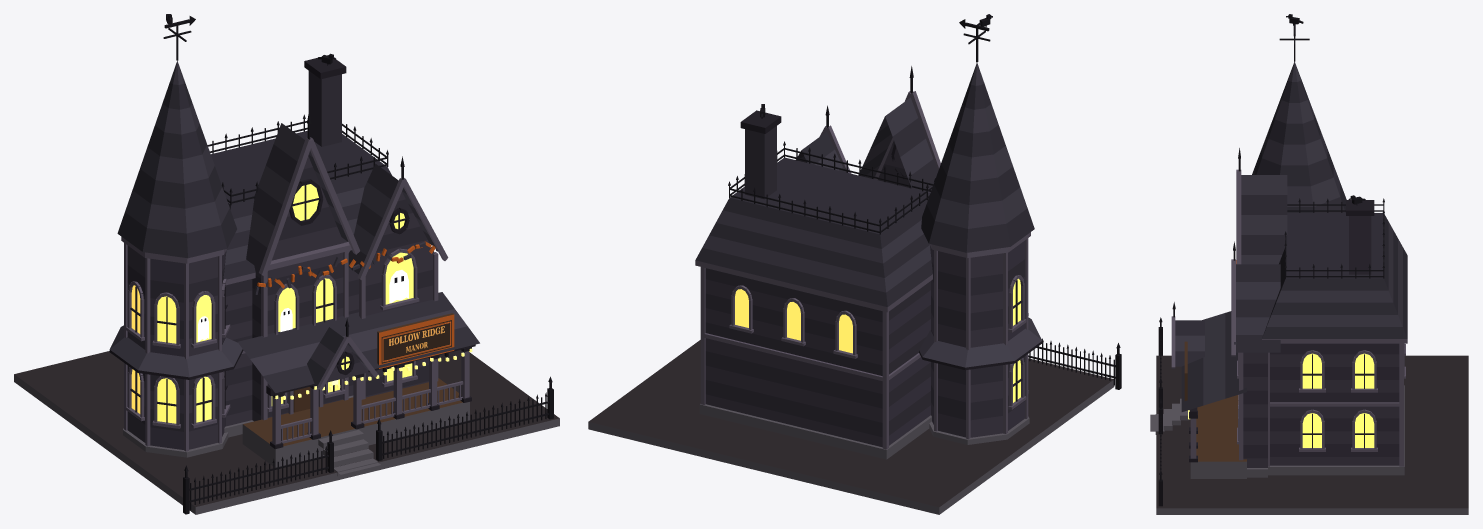
The model's file is manor.glb.
The picture shows the model from 3 angles, left to right: view 1: azimuth 30°, elevation 25°; view 2: azimuth 150°, elevation 25°; view 3: azimuth 270°, elevation 25°; orthographic projection. The views are drawn at different scales.
Visible parts, largest first — view 1: manor, manor_sign; view 2: manor; view 3: manor.
Boxes of the visible parts, bbox=[...] form: manor: bbox=[14, 14, 559, 514]; manor_sign: bbox=[381, 320, 451, 363]; manor: bbox=[588, 14, 1121, 514]; manor: bbox=[1150, 14, 1468, 514].
Bounding box in the file's own units: 24.89 × 27.42 × 21.4.
Materials: 2 (2 with a texture image).
